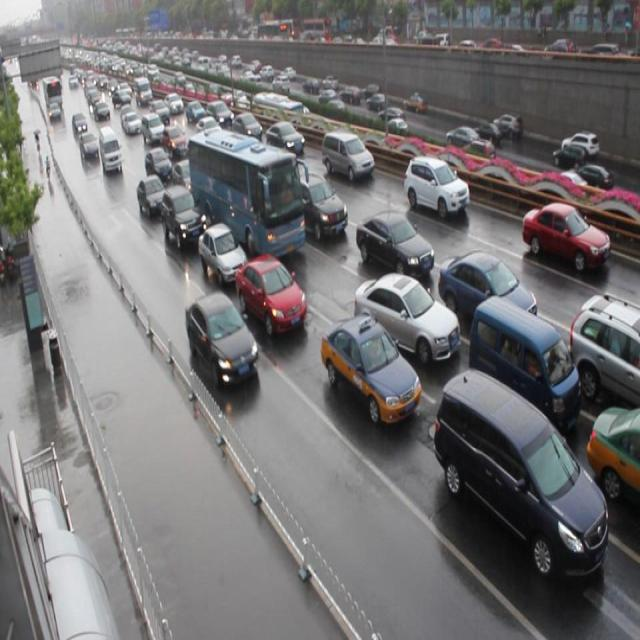car: (320, 318, 420, 428), (352, 276, 459, 368), (566, 297, 640, 408), (437, 253, 535, 335), (186, 288, 259, 391), (520, 200, 609, 273), (584, 408, 640, 515), (233, 255, 305, 335), (354, 214, 433, 280), (402, 153, 469, 218), (294, 176, 346, 242), (196, 224, 247, 284), (160, 186, 206, 250), (266, 121, 306, 158), (136, 173, 166, 216), (170, 161, 197, 197), (144, 149, 172, 183), (232, 110, 262, 141)
truck: (434, 370, 606, 582), (466, 297, 577, 432), (321, 128, 374, 181)
van: (190, 130, 304, 263)
